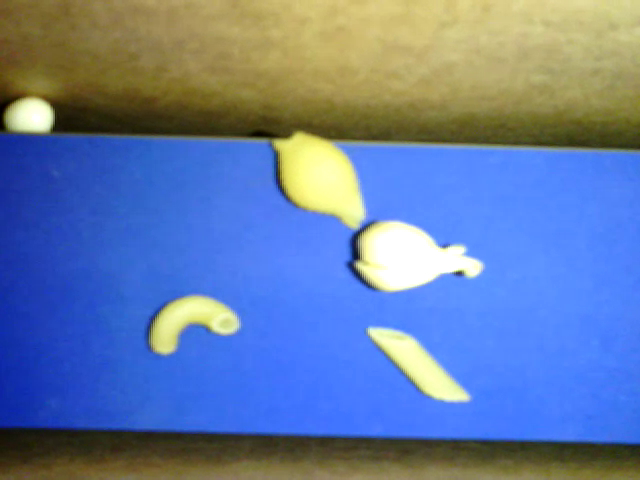elbow: (148, 295, 240, 356)
penne: (366, 326, 471, 404)
shell: (271, 131, 365, 231)
tortellini: (353, 220, 484, 291)
